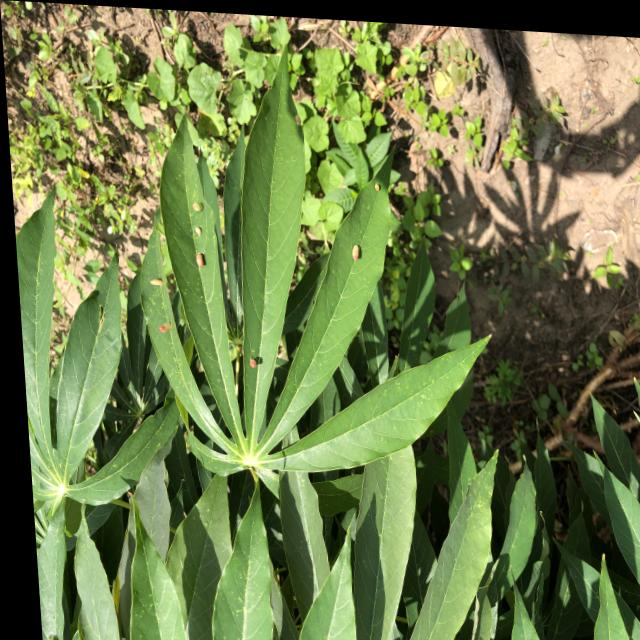Mosca: (189, 187, 218, 272), (149, 266, 178, 336), (342, 236, 377, 265), (242, 352, 266, 375), (367, 171, 386, 200)
